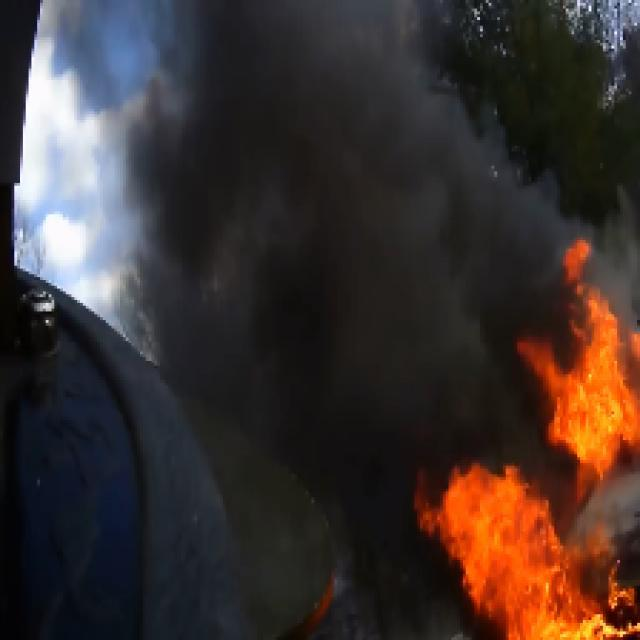Fire: (408, 465, 614, 640)
Smoke: (186, 103, 457, 414)
